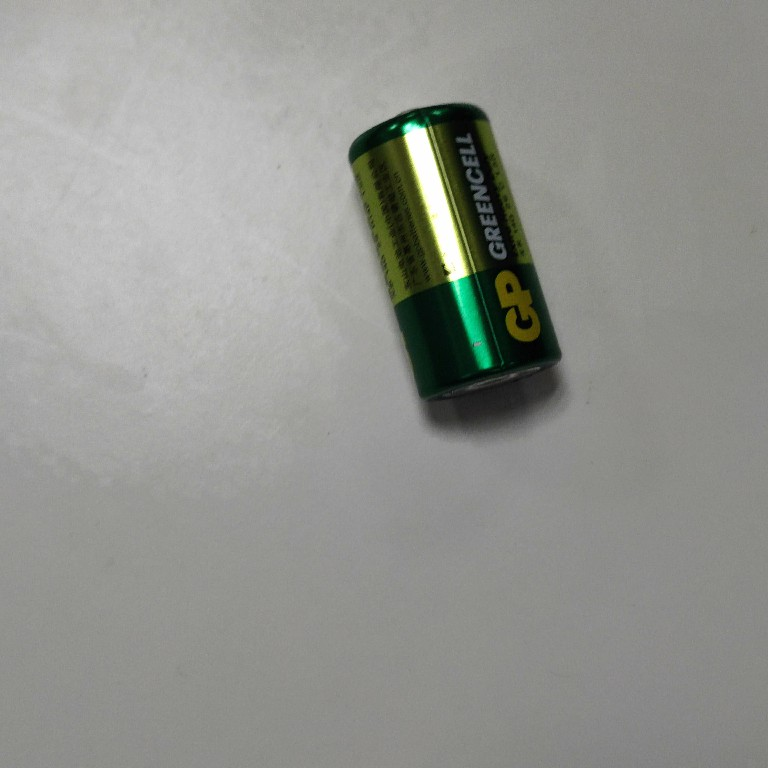charge: (347, 96, 569, 404)
